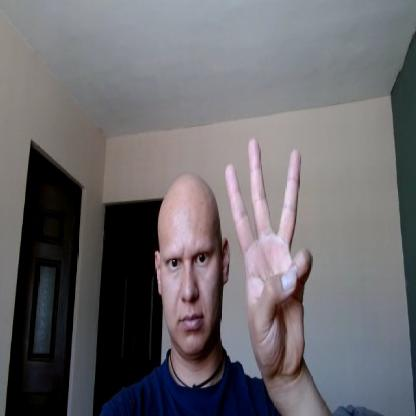W: (223, 136, 310, 383)
